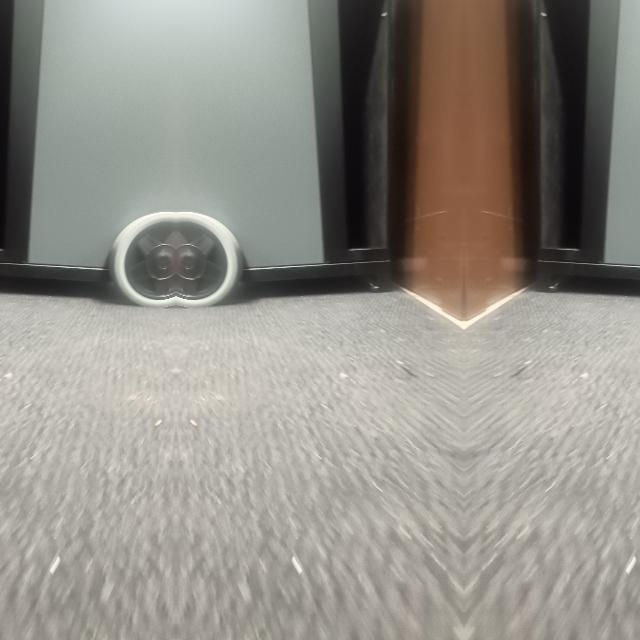obstacle: (177, 109, 397, 307), (0, 109, 173, 307), (530, 109, 640, 307)
